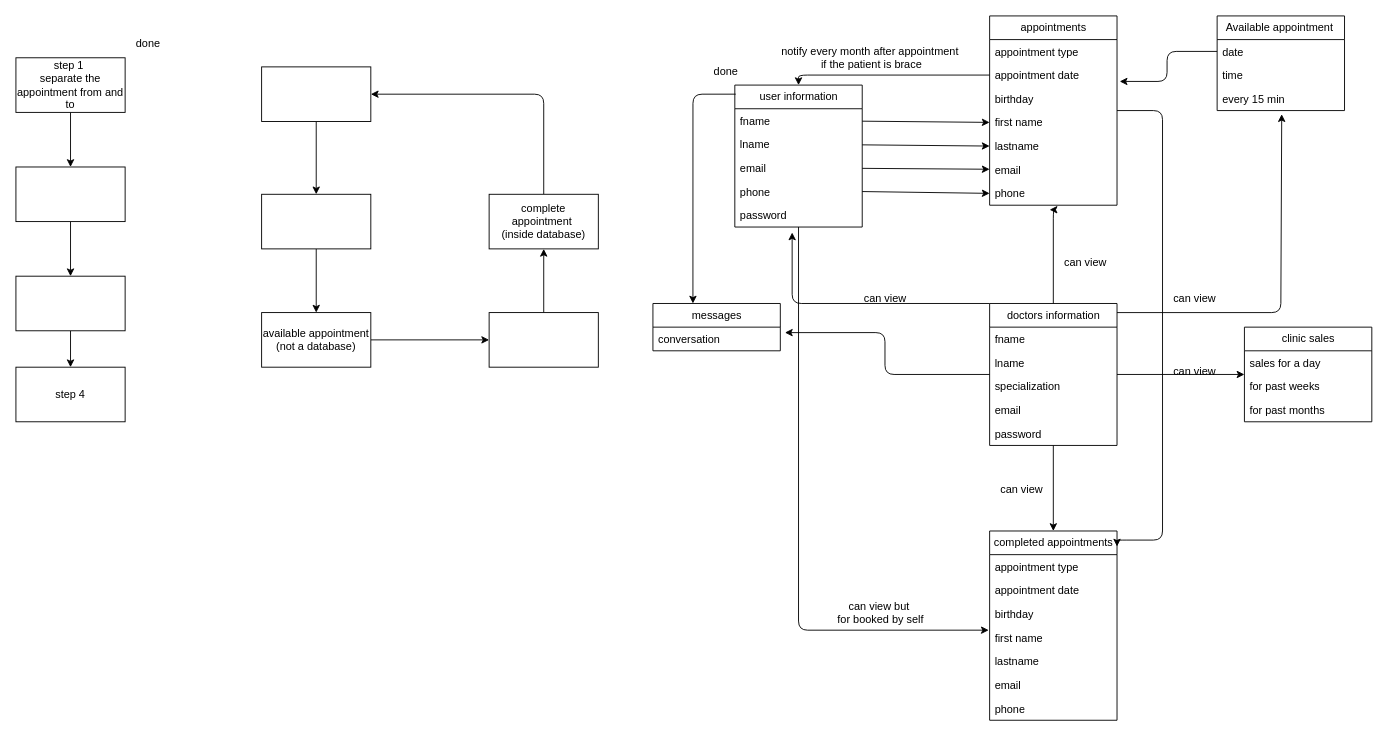
The diagram is 1388 pixels wide and 739 high, and some of its shapes have lost their labels. Each missing label, with the centre of its shape:
"choose appointment from available date" belongs at point (543, 339).
"current date + 30 days (not a database)" belongs at point (316, 221).
"step 2 design the html code that display all dates for next 30 days" belongs at point (70, 194).
"step step 3 color the taken appointment to red" belongs at point (70, 303).
"taken appointment" belongs at point (316, 93).
